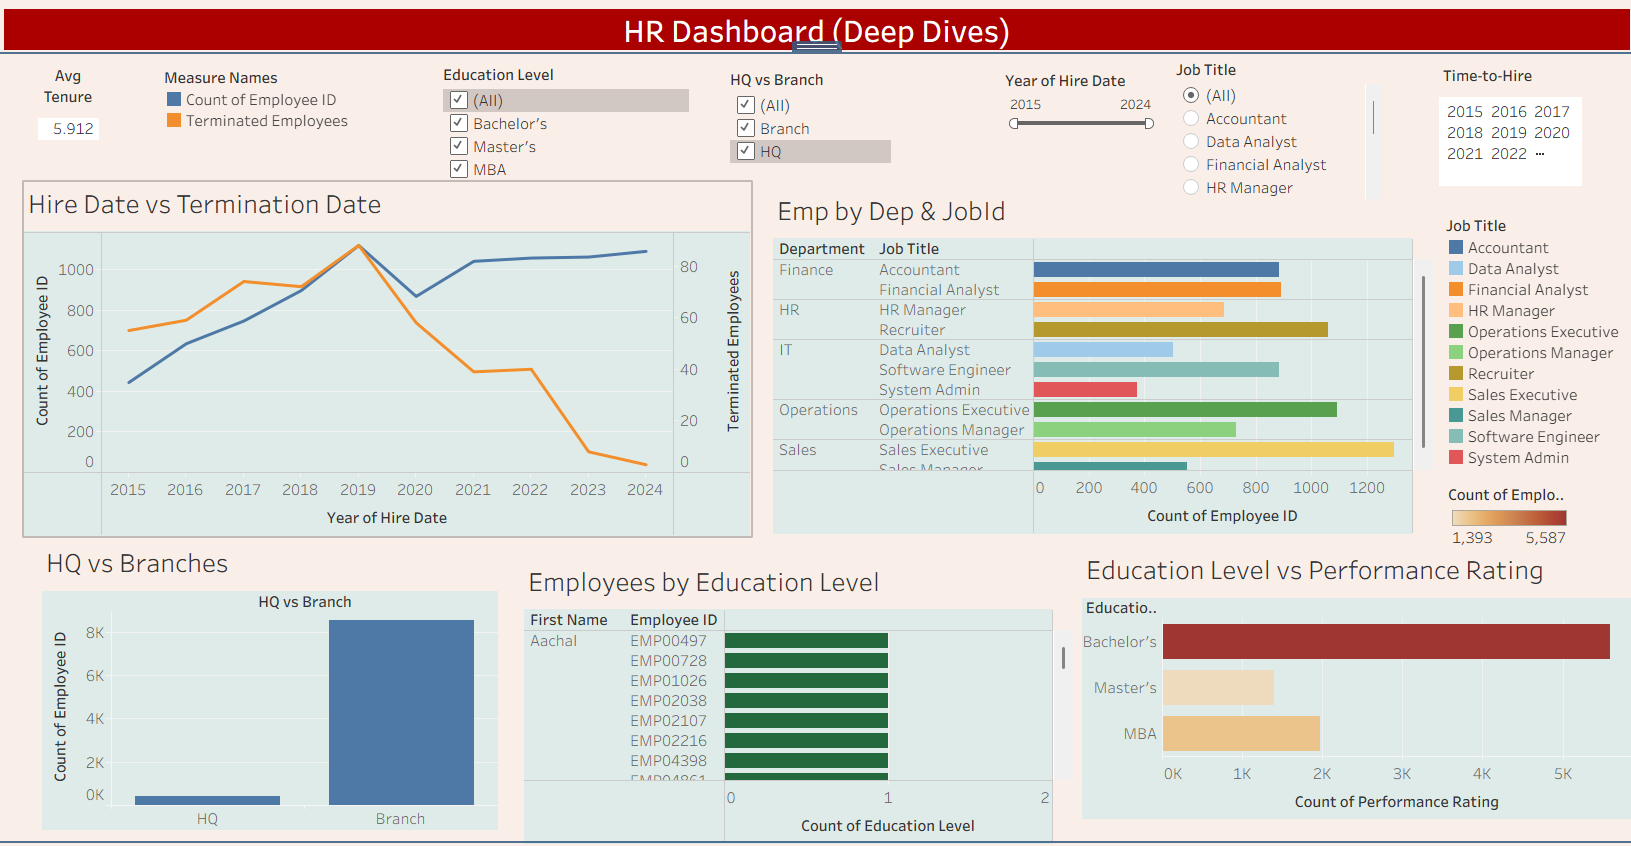

What the dashboard file says about the page in this screenshot:
{"tool":"tableau","page":{"name":"Dashboard 2","canvas":[1000,1000],"units":"permille","ordinal":0},"visuals":[{"type":"title","box":[4.9,9.4,990.3,57.5]},{"type":"worksheet","title":"KPI4","mark":"Automatic","box":[28,75.5,66.4,224]},{"type":"filter","title":"HQ vs Branches","param":"[federated.1a7s9ks0zl6jkw19umaup15d6qiy].[none:Calculation_0729810080092163:nk]","box":[106,75.5,97.5,116.2]},{"type":"worksheet","title":"KPI 5","mark":"Automatic","box":[905.6,75.5,86.5,155.7]},{"type":"filter","title":"Education Level vs Performance Rating ","param":"[federated.1a7s9ks0zl6jkw19umaup15d6qiy].[none:Education Level:nk]","box":[688,77.8,97.5,143.7]},{"type":"legend","title":"Hire Date vs Termination Date","param":"[federated.1a7s9ks0zl6jkw19umaup15d6qiy].[:Measure Names]","box":[207.8,81.4,153.6,104.2]},{"type":"filter","title":"Education Level vs Performance Rating ","param":"[federated.1a7s9ks0zl6jkw19umaup15d6qiy].[cnt:Performance Rating:qk]","box":[358.9,82.6,97.5,111.4]},{"type":"filter","title":"Hire Date vs Termination Date","param":"[federated.1a7s9ks0zl6jkw19umaup15d6qiy].[tyr:Hire Date:qk]","box":[795.2,82.6,92.6,122.2]},{"type":"legend","title":"Education Level vs Performance Rating ","param":"[federated.1a7s9ks0zl6jkw19umaup15d6qiy].[cnt:Employee ID (Employee_Dim.csv):qk]","box":[489.9,83.8,181.6,112.6]},{"type":"worksheet","title":"Hire Date vs Termination Date","mark":"Automatic","rows":["Employee ID","Calculation_0729810069446658"],"cols":["Hire Date"],"box":[19.5,216.8,440.6,415.6]},{"type":"worksheet","title":"Emp by Dep & JobId","mark":"Automatic","rows":["Department","Job Title"],"cols":["Employee ID"],"box":[473.5,225.2,400.4,404.8]},{"type":"legend","title":"Emp by Dep & JobId","param":"[federated.1a7s9ks0zl6jkw19umaup15d6qiy].[none:Job Title:nk]","box":[881.2,256.3,108.5,303]},{"type":"worksheet","title":"HQ vs Branches","mark":"Automatic","rows":["Employee ID"],"cols":["Calculation_0729810080092163"],"box":[30.5,638.3,276.7,338.9]},{"type":"worksheet","title":"Education Level vs Performance Rating ","mark":"Automatic","rows":["Education Level"],"cols":["Performance Rating"],"box":[660.6,646.7,333.3,332.9]},{"type":"worksheet","title":"Employees by Education Level","mark":"Automatic","rows":["First Name","Employee ID"],"cols":["Education Level"],"box":[322.4,661.1,333.3,332.9]}]}

Visuals, with their boxes on the dashboard's canvas, which has no fixed pixel size, in thousandths of its width and height (x1, y1, x2, y2). These are canvas units, not pixel positions in the 1631x846 screenshot, which may show the page scaled, cropped or inside an application window:
title: (5,9,995,67)
"KPI4" worksheet: (28,76,94,300)
"HQ vs Branches" filter: (106,76,204,192)
"KPI 5" worksheet: (906,76,992,231)
"Education Level vs Performance Rating " filter: (688,78,786,222)
"Hire Date vs Termination Date" legend: (208,81,361,186)
"Education Level vs Performance Rating " filter: (359,83,456,194)
"Hire Date vs Termination Date" filter: (795,83,888,205)
"Education Level vs Performance Rating " legend: (490,84,672,196)
"Hire Date vs Termination Date" worksheet: (20,217,460,632)
"Emp by Dep & JobId" worksheet: (474,225,874,630)
"Emp by Dep & JobId" legend: (881,256,990,559)
"HQ vs Branches" worksheet: (30,638,307,977)
"Education Level vs Performance Rating " worksheet: (661,647,994,980)
"Employees by Education Level" worksheet: (322,661,656,994)
